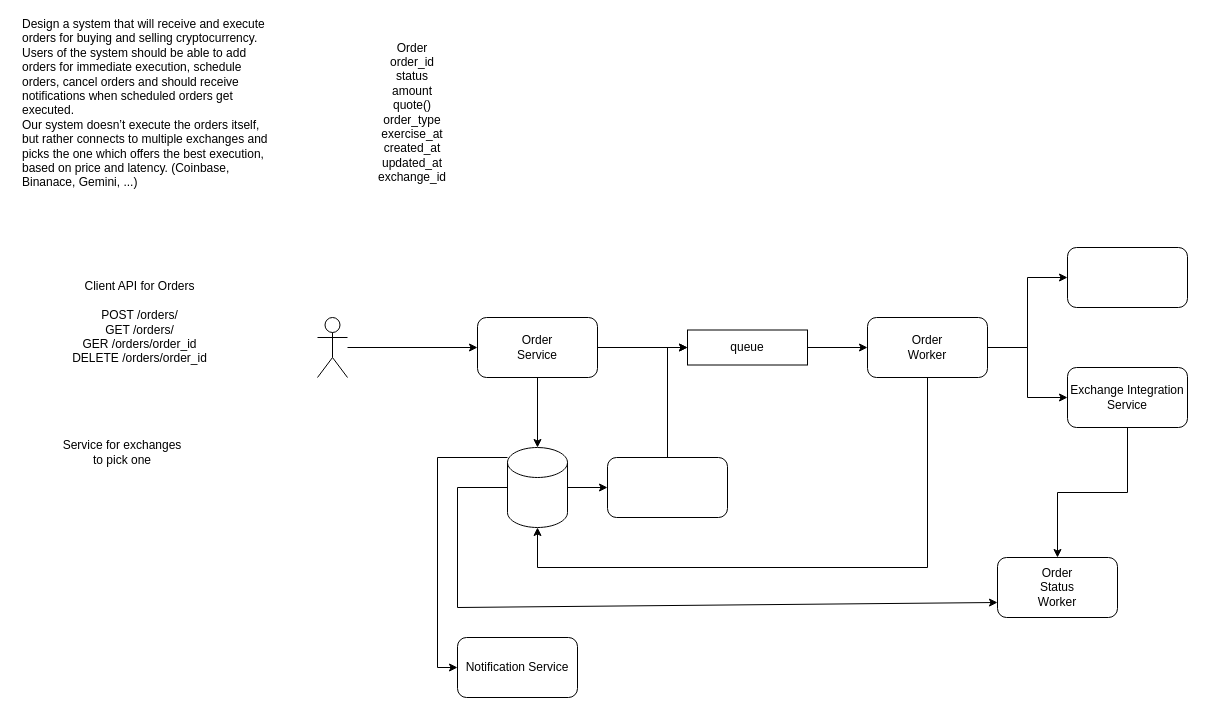
Image size: 1205x715. Some labels were removed from this diagram. The shapes that lost their labels are listed below. From the top down, each one's centre as x and y in pixels, then its label:
[1127,277]: Exchange Finder Service
[332,347]: Client
[667,487]: Scheduled Order Service
